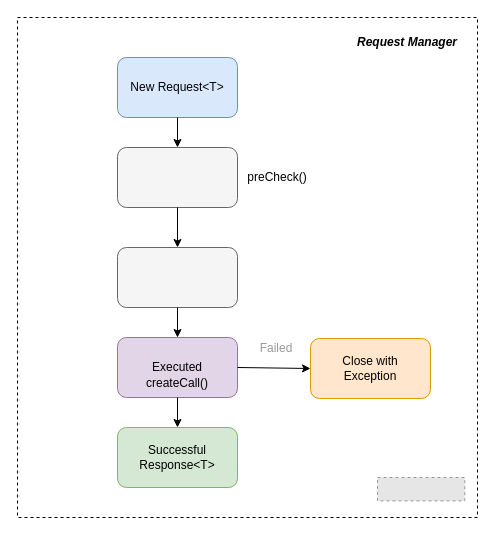
The diagram is 495 pixels wide and 535 high, and some of its shapes have lost their labels. Grey dashed boxes stand in for pictures. Here are the shapes that lost their labels. From the top down, the centre of each, then its label:
At point (177, 177): "Assess/Verify".
At point (177, 277): "Approved to executed".
